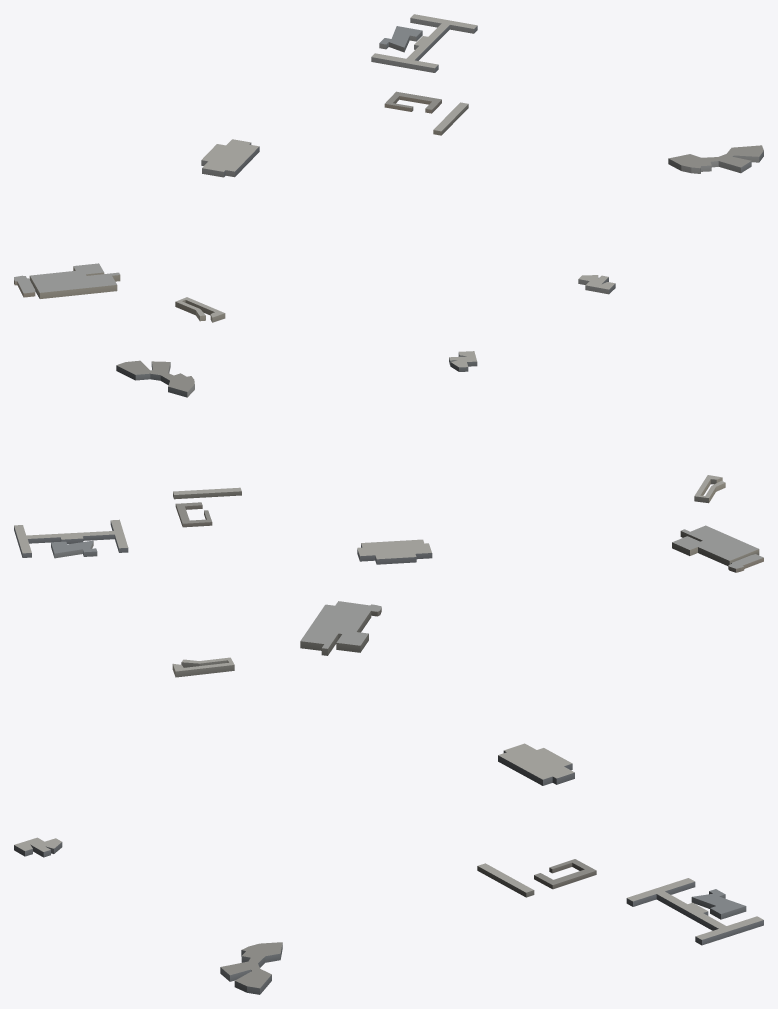
The model's file is bld_19_4.fbx.
3 views of the same model, one above another, from view 1: azimuth 30°, elevation 25°; view 2: azimuth 150°, elevation 25°; view 3: azimuth 270°, elevation 25° (orthographic). The views are drawn at different scales.
Visible parts, largest first — view 1: bld_19_4_LOD0; view 2: bld_19_4_LOD0; view 3: bld_19_4_LOD0.
Boxes of the visible parts, left/top/right/bottom form: bld_19_4_LOD0: left=14, top=14, right=763, bottom=322; bld_19_4_LOD0: left=14, top=351, right=763, bottom=572; bld_19_4_LOD0: left=14, top=601, right=763, bottom=994.
Size of the model in its own units: 1530 by 12.97 by 1246.
